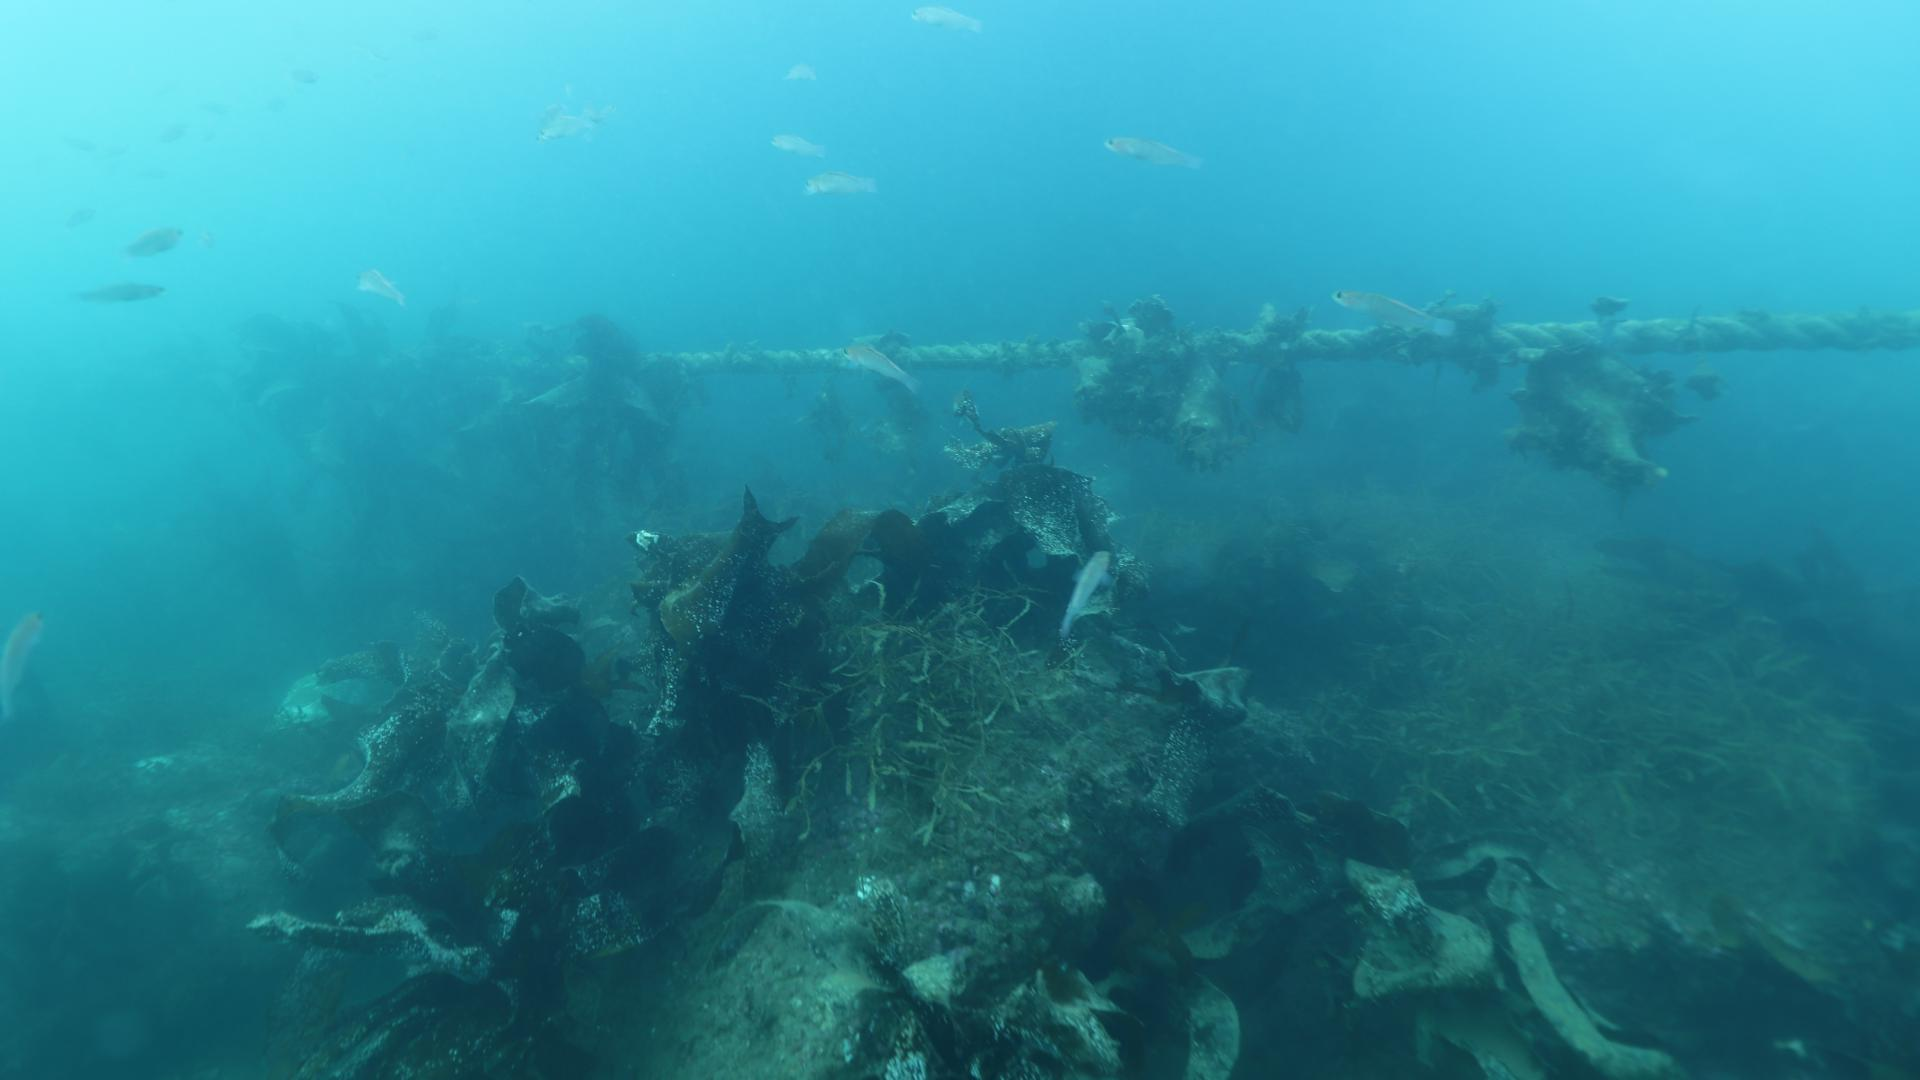rope: (638, 310, 1920, 380)
